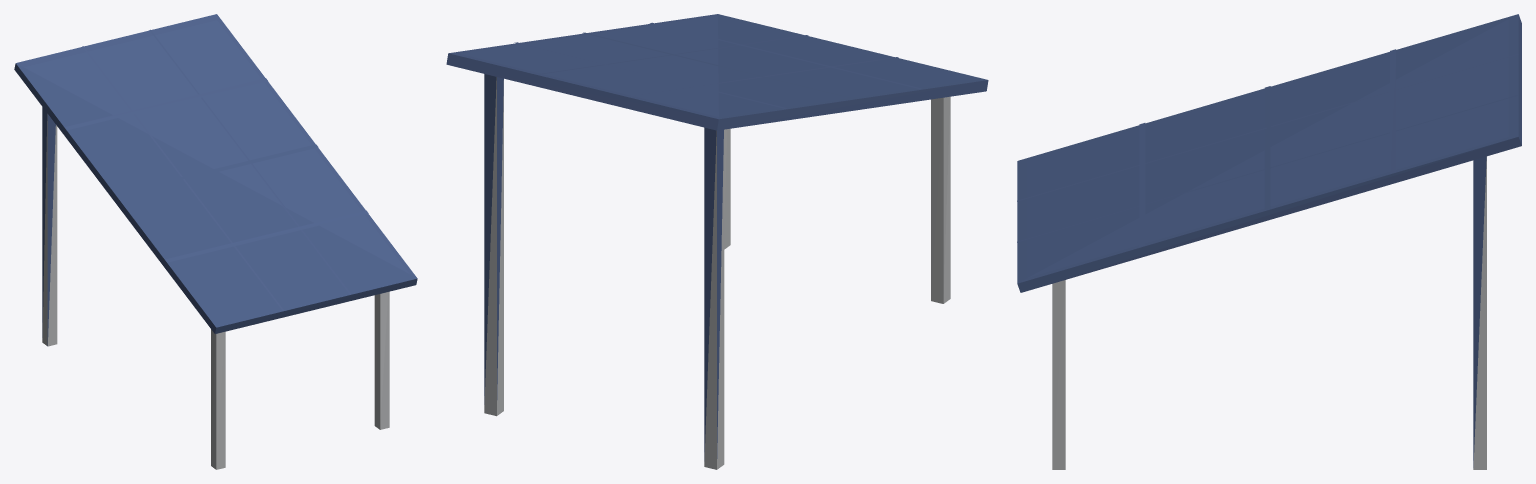
The model's file is solar-panel-00.glb.
3 renders of one model, left to right at view 1: azimuth 30°, elevation 25°; view 2: azimuth 150°, elevation 25°; view 3: azimuth 270°, elevation 25°, orthographic. The views are drawn at different scales.
Parts seen in each view (by area): view 1: solar_panel_00; view 2: solar_panel_00; view 3: solar_panel_00.
Boxes of the visible parts, x1,y1,x2,y2 form: solar_panel_00: [14, 14, 417, 469]; solar_panel_00: [446, 14, 988, 469]; solar_panel_00: [1017, 14, 1521, 469].
Bounding box in the file's own units: 1.07 × 1.39 × 1.86.
